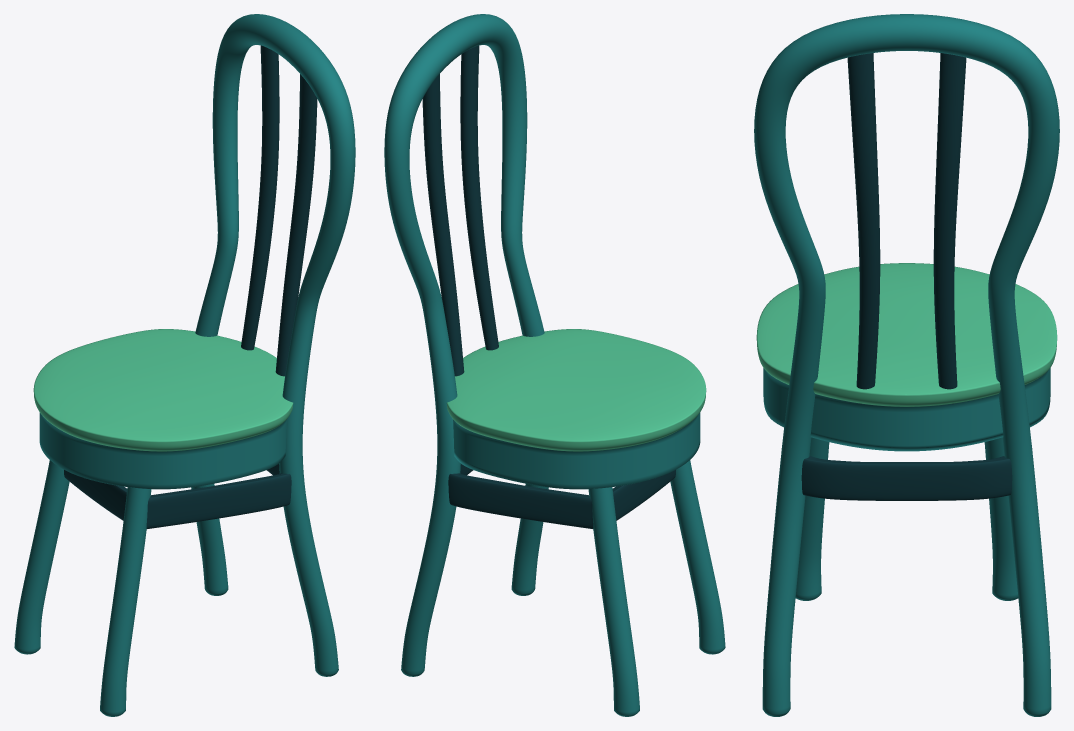
The model's file is chair.fbx.
3 renders of one model, left to right at view 1: azimuth 30°, elevation 25°; view 2: azimuth 150°, elevation 25°; view 3: azimuth 270°, elevation 25°, orthographic. The views are drawn at different scales.
Parts seen in each view (by area): view 1: chair; view 2: chair; view 3: chair.
Boxes of the visible parts, x1,y1,x2,y2 form: chair: (14,14,355,716); chair: (384,14,725,716); chair: (754,14,1059,716).
Size of the model in its own units: 1.24 by 2.78 by 1.09.
